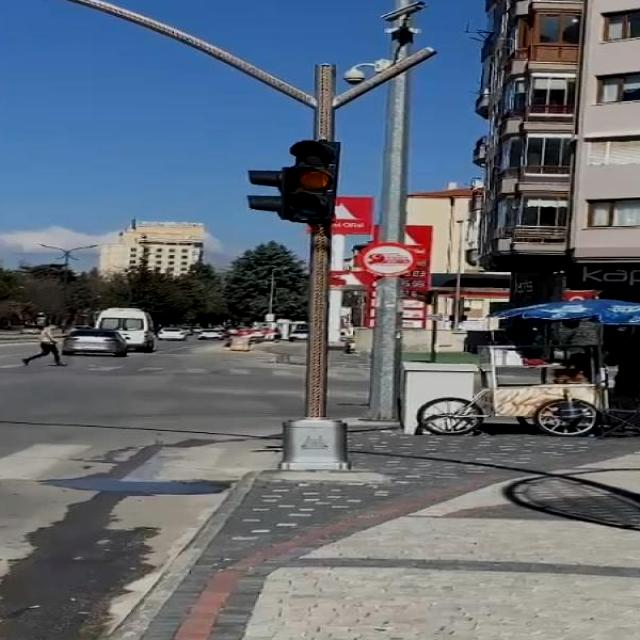sari: (247, 140, 341, 224)
